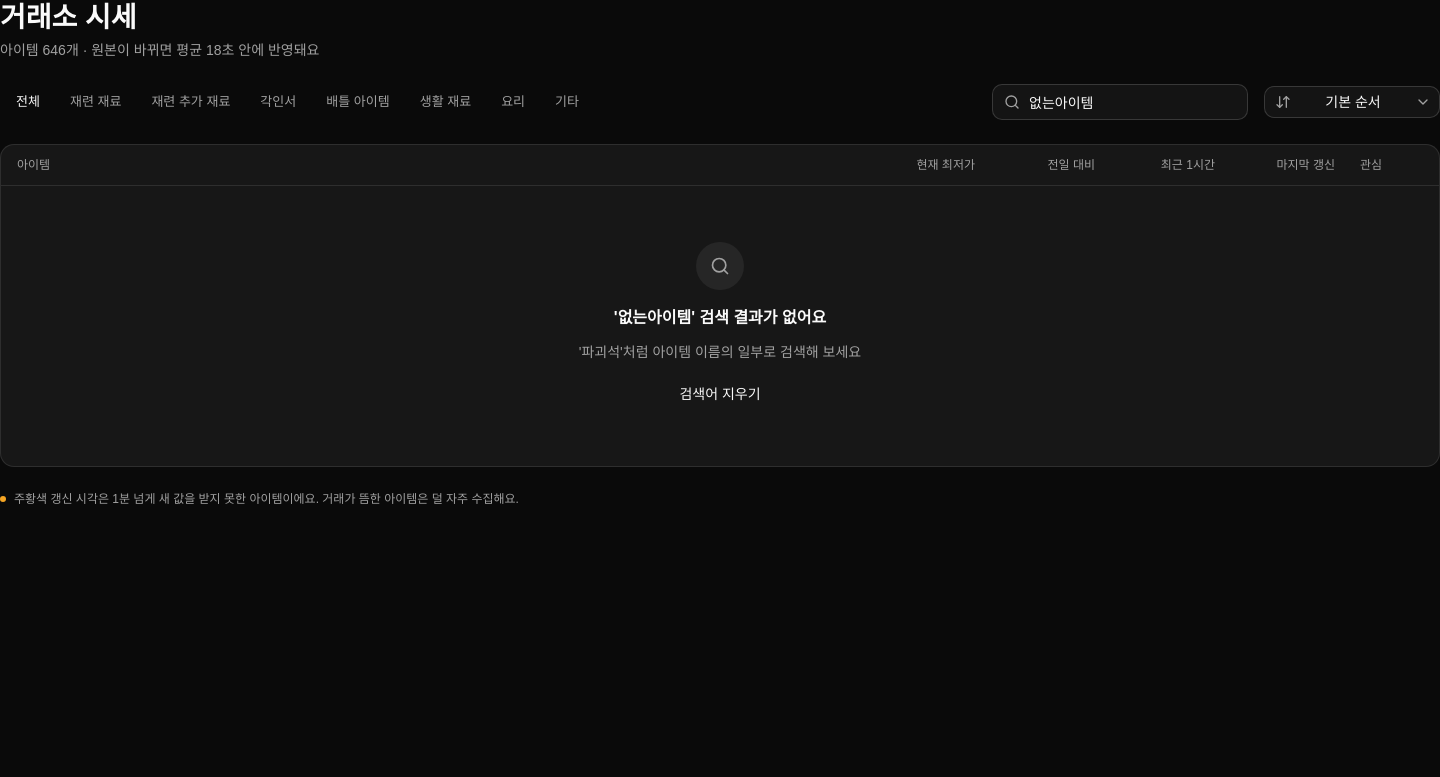
Test: 시세 목록 화면 › 검색 결과가 없으면 안내하고, 검색어를 지우면 다시 목록을 보여준다
The image size is (1440, 777).
Expected: the text "'없는아이템' 검색 결과가 없어요" is shown, [614,306,826,330]
Step 1. Click the button "검색어 지우기" → (720,394), box [668,378,772,410]
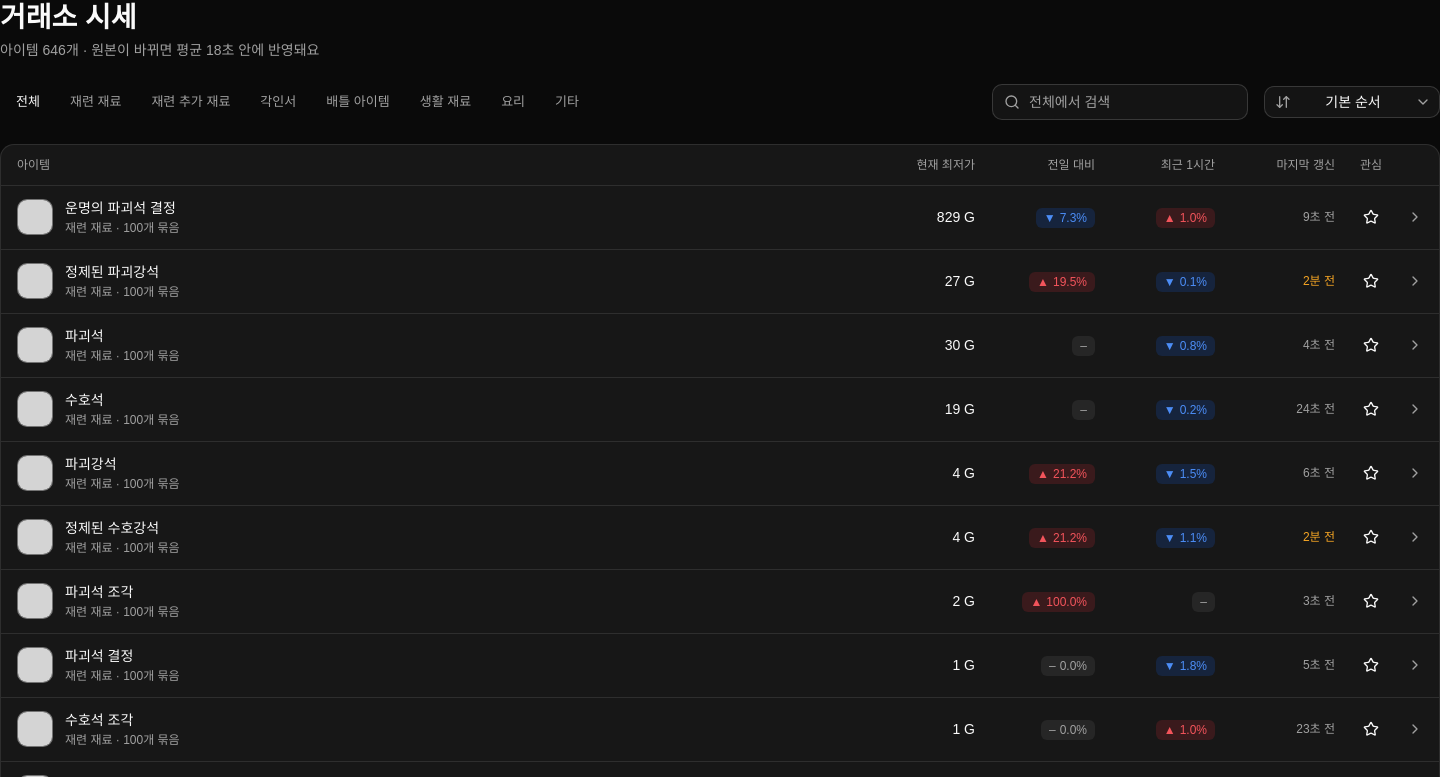
Expected: the link "운명의 파괴석 결정" is shown, [65,198,180,218]
